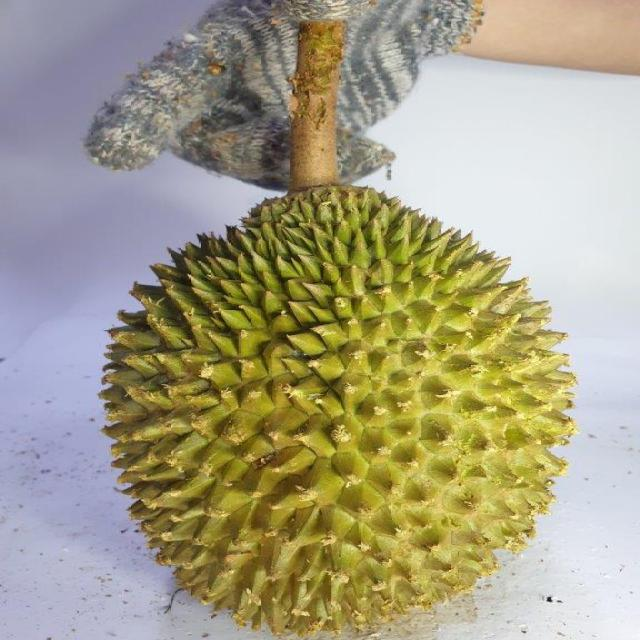immature: (99, 185, 582, 640)
